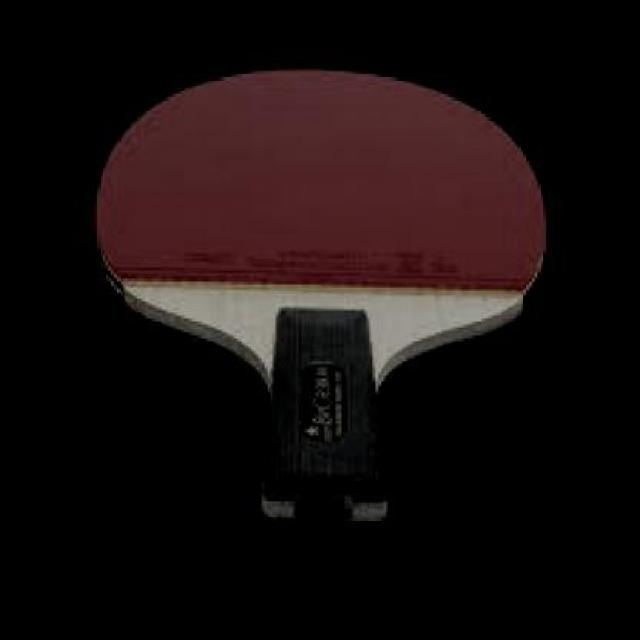table_tennis_racket: (90, 63, 550, 326)
